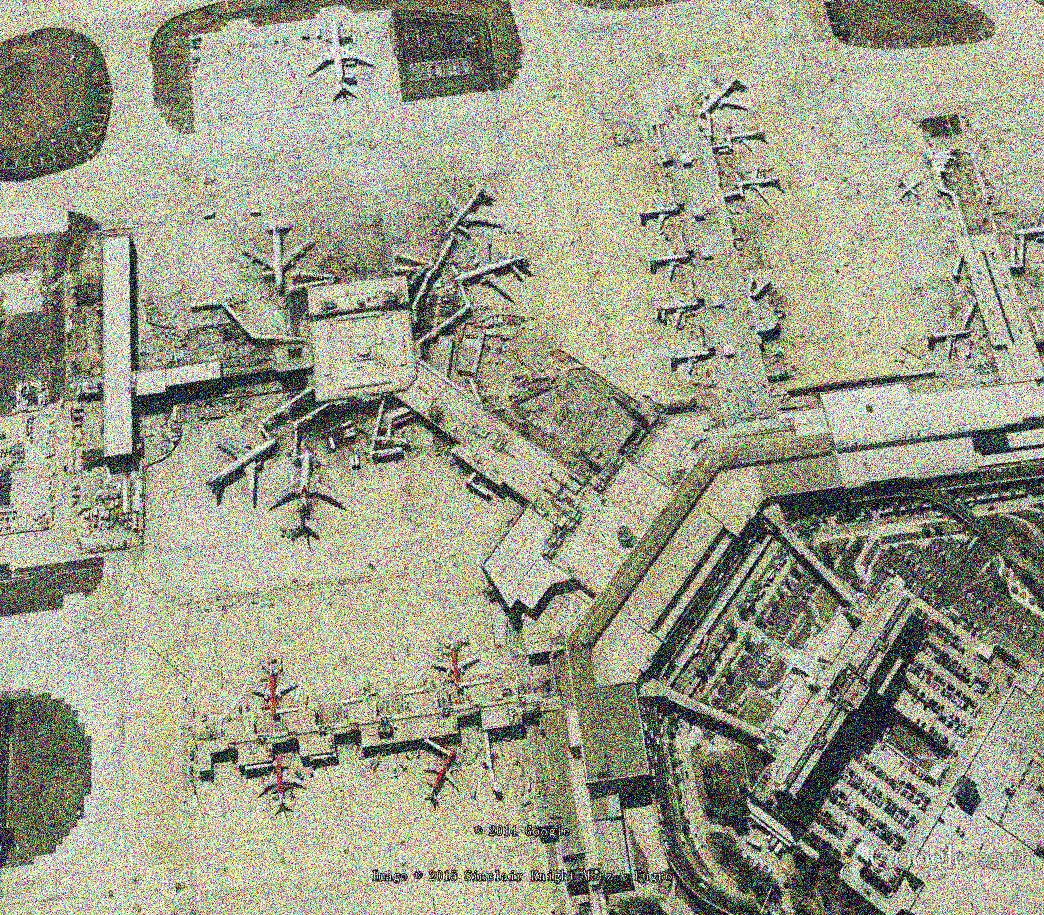aircraft: (265, 445, 351, 540), (235, 213, 319, 295), (447, 237, 541, 307), (202, 432, 282, 510), (304, 16, 376, 99), (441, 175, 507, 240), (427, 634, 487, 699), (253, 754, 309, 819), (247, 658, 301, 721), (421, 747, 471, 814), (648, 285, 708, 339), (699, 69, 754, 120), (730, 160, 787, 207), (922, 315, 976, 364), (643, 240, 700, 286), (658, 337, 715, 382), (636, 192, 684, 237), (718, 115, 769, 156), (894, 171, 924, 201)
